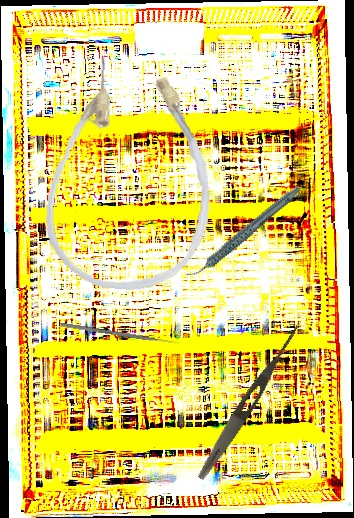Cannula: (40, 52, 222, 297)
Dressing Forceps: (193, 321, 304, 483)
Handpiece: (171, 184, 315, 280)
Pusher: (60, 322, 181, 346)
